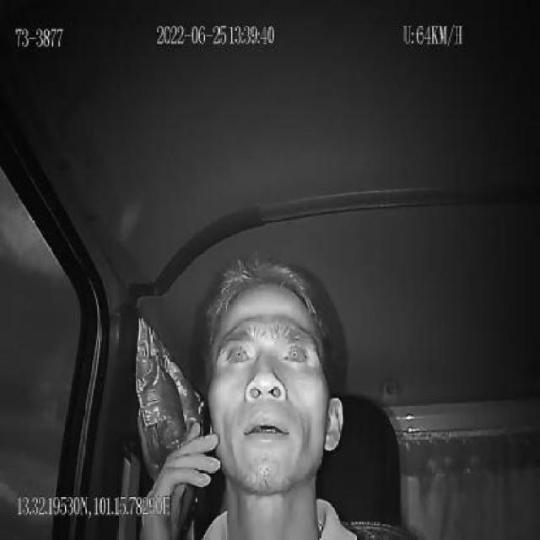phone: (174, 395, 212, 540)
